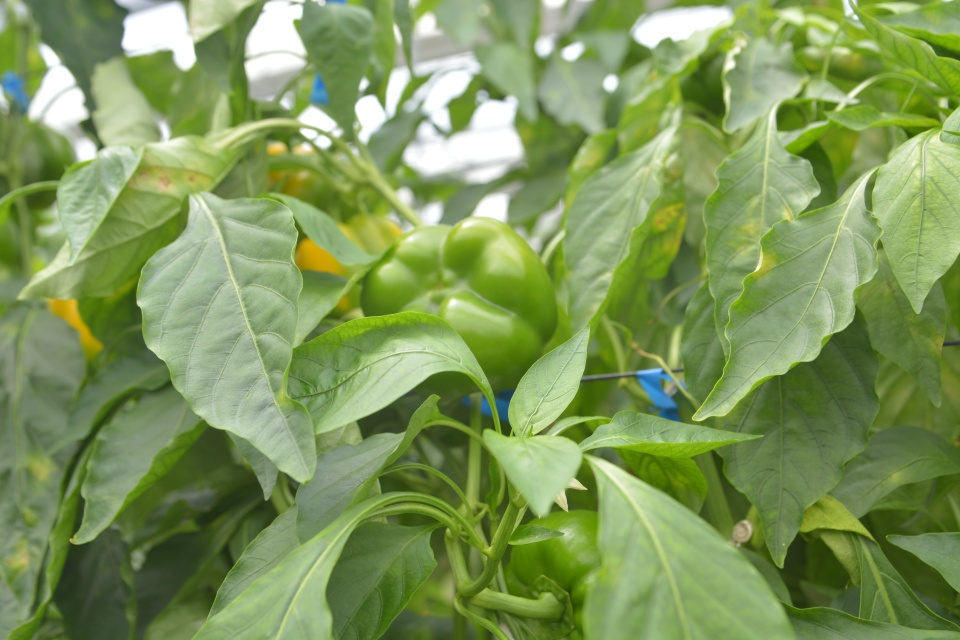fruit: (359, 212, 561, 410), (498, 505, 603, 640), (292, 208, 406, 325), (263, 135, 330, 213)
pedicle: (529, 572, 575, 640)
